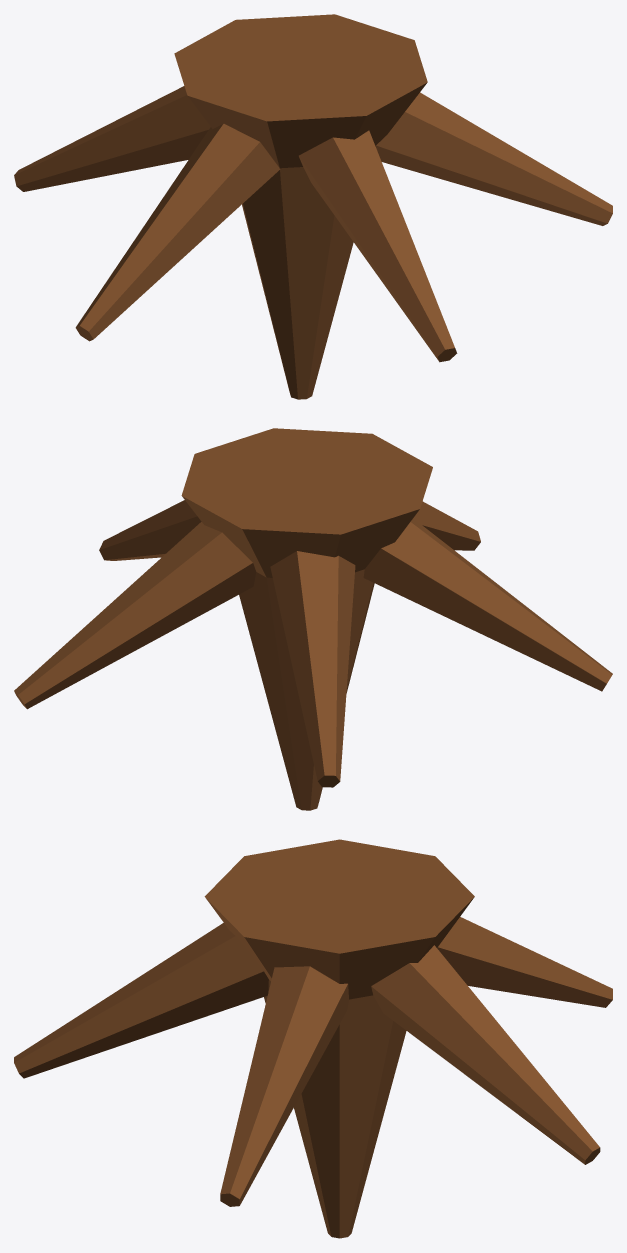
Rendered from Taproot.obj.
The picture shows the model from 3 angles, top to bottom: view 1: azimuth 30°, elevation 25°; view 2: azimuth 150°, elevation 25°; view 3: azimuth 270°, elevation 25°; orthographic projection. The views are drawn at different scales.
Parts seen in each view (by area): view 1: Taproot_Root; view 2: Taproot_Root; view 3: Taproot_Root.
Boxes of the visible parts, x1,y1,x2,y2 form: Taproot_Root: (14, 14, 612, 399); Taproot_Root: (14, 428, 612, 810); Taproot_Root: (14, 839, 612, 1238).
Size of the model in its own units: 3.68 by 2.2 by 3.54.
